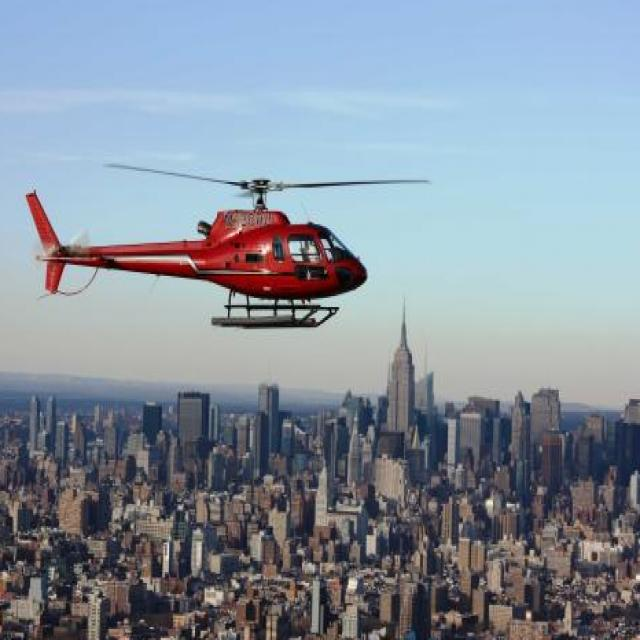helicopter: (18, 141, 437, 334)
